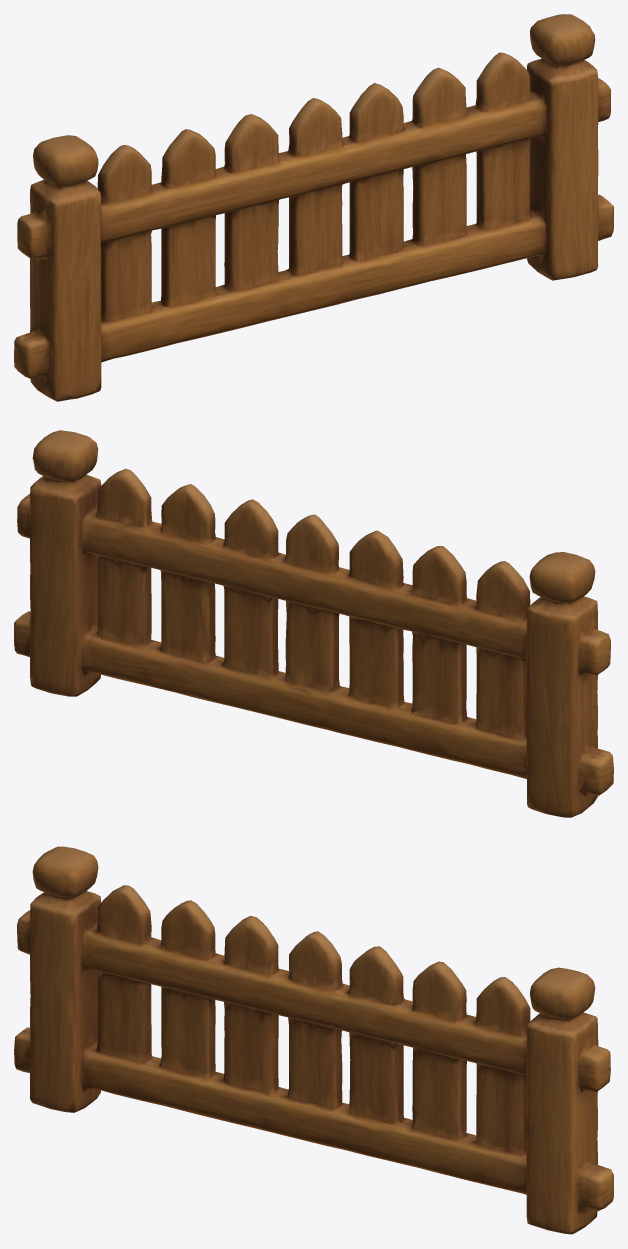
Rendered from fence.glb.
3 views of the same model, one above another, from view 1: azimuth 30°, elevation 25°; view 2: azimuth 150°, elevation 25°; view 3: azimuth 330°, elevation 25° (orthographic).
Size of the model in its own units: 1 by 0.4043 by 0.0881.
Materials: 1 (1 with a texture image).
